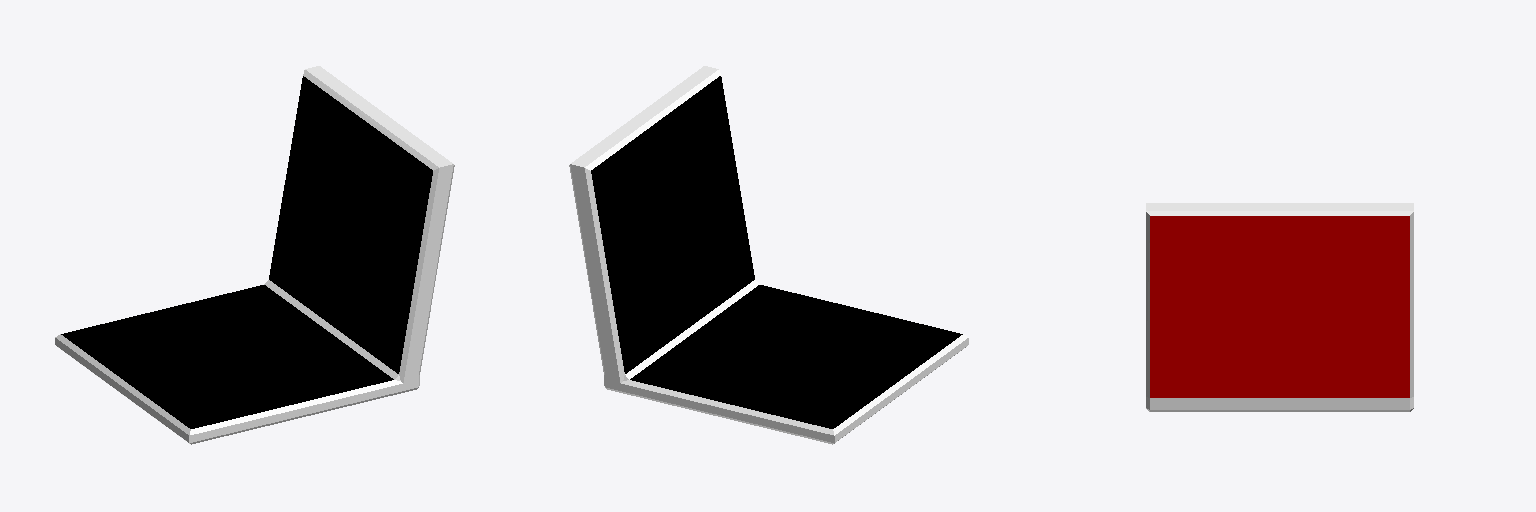
Rendered from Labtop.obj.
3 views of the same model, side by side, from view 1: azimuth 30°, elevation 25°; view 2: azimuth 150°, elevation 25°; view 3: azimuth 270°, elevation 25° (orthographic).
Visible parts, largest first — view 1: PokemonCenter_Labtop; view 2: PokemonCenter_Labtop; view 3: PokemonCenter_Labtop.
Part boxes in pixels (bbox=[...]): PokemonCenter_Labtop: bbox=[55, 66, 454, 444]; PokemonCenter_Labtop: bbox=[569, 66, 968, 444]; PokemonCenter_Labtop: bbox=[1146, 203, 1413, 411].
Size of the model in its own units: 0.6216 by 0.4851 by 0.541.